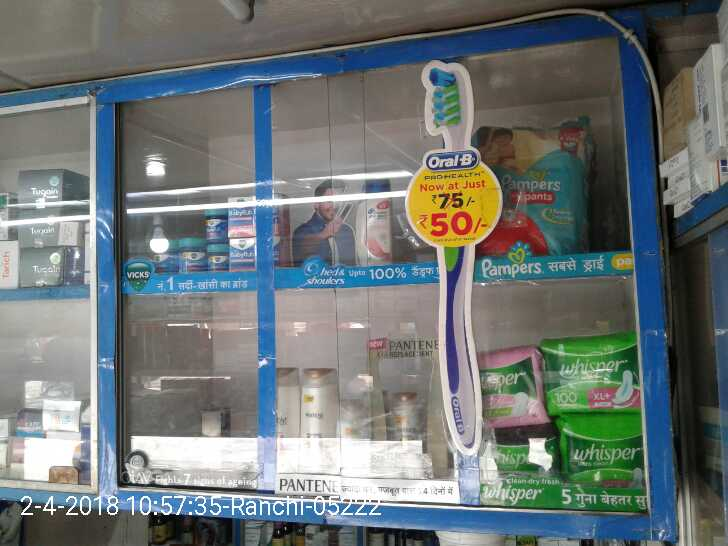vicks: (257, 194, 291, 236), (231, 200, 256, 238), (257, 236, 293, 262), (180, 238, 205, 270), (205, 207, 229, 238), (231, 238, 254, 269), (210, 243, 229, 272)
